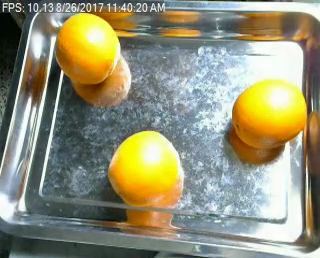Orange: (107, 130, 185, 208), (230, 79, 307, 148), (56, 13, 120, 83)
